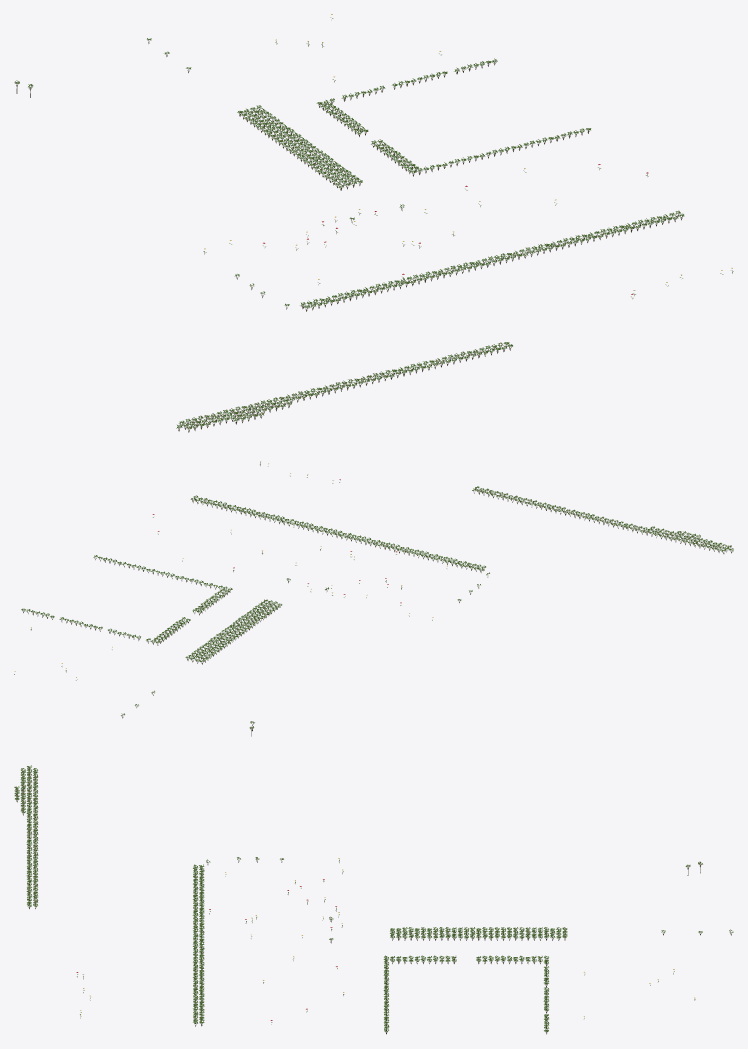
3 views of the same model, one above another, from view 1: azimuth 30°, elevation 25°; view 2: azimuth 150°, elevation 25°; view 3: azimuth 270°, elevation 25° (orthographic). The views are drawn at different scales.
Parts seen in each view (by area): view 1: GROUND_FLORA_s_-7_-5; view 2: GROUND_FLORA_s_-7_-5; view 3: GROUND_FLORA_s_-7_-5.
Boxes of the visible parts, x1,y1,x2,y2 form: GROUND_FLORA_s_-7_-5: (14, 14, 733, 432); GROUND_FLORA_s_-7_-5: (14, 461, 733, 736); GROUND_FLORA_s_-7_-5: (14, 765, 733, 1034).
Size of the model in its own units: 99.99 by 1.97 by 117.
